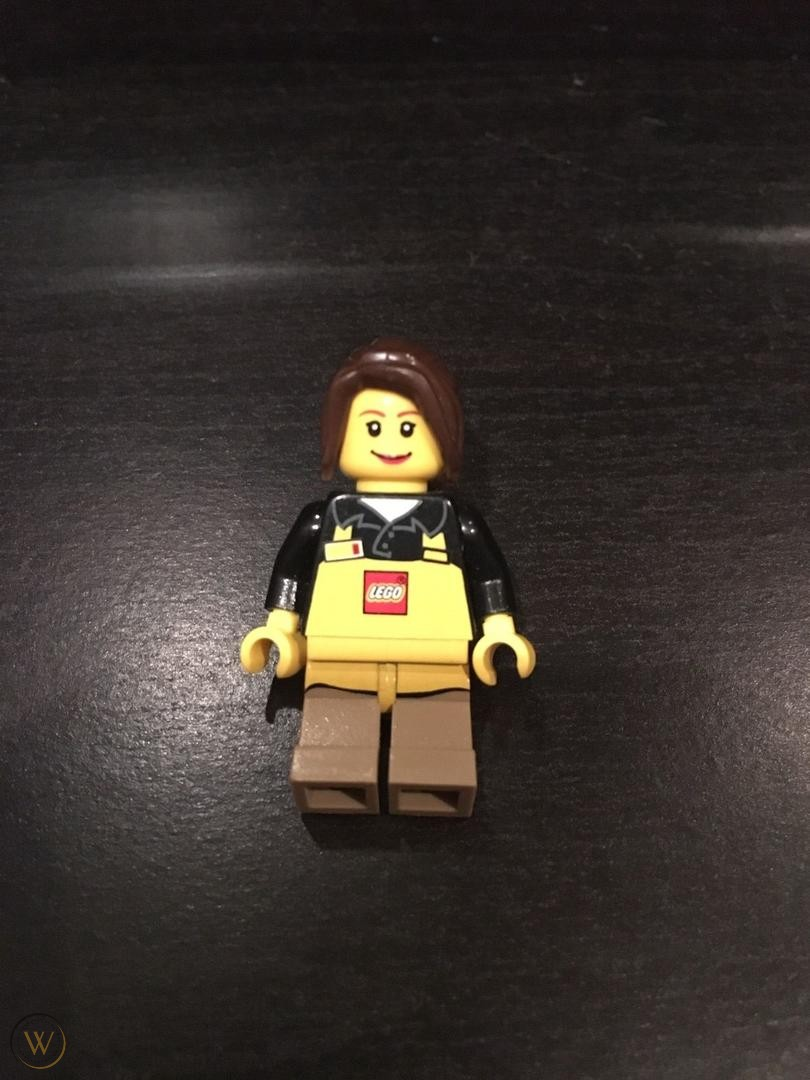lego: (231, 327, 550, 841)
